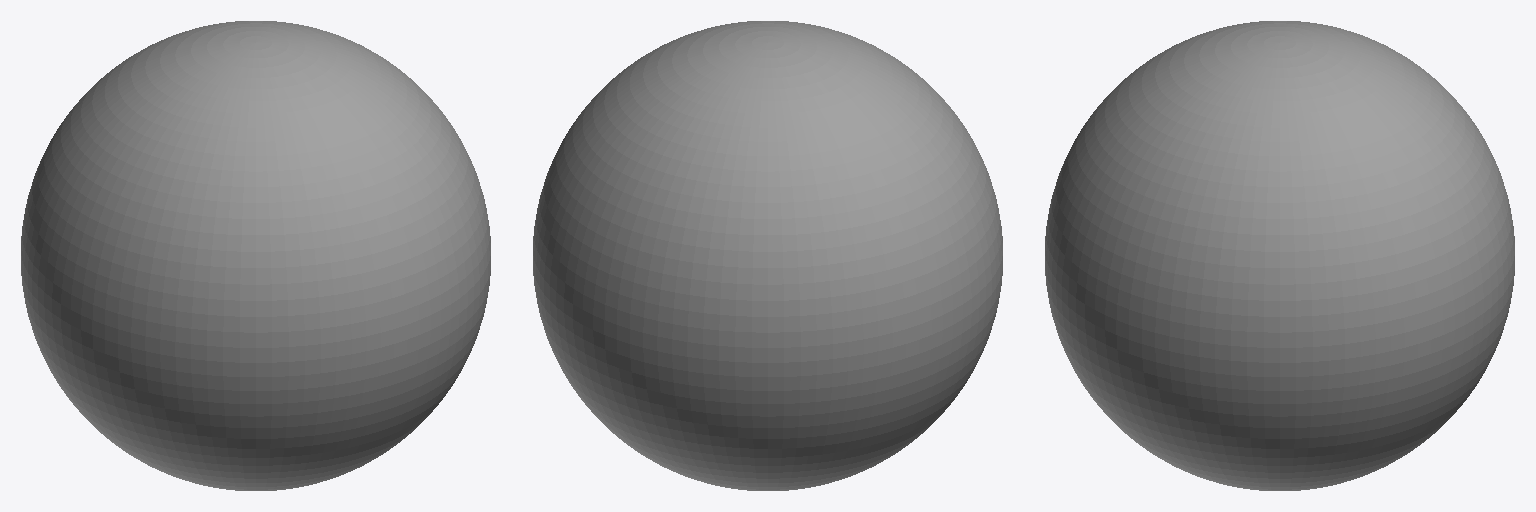
Rendered from earth.obj.
3 views of the same model, side by side, from view 1: azimuth 30°, elevation 25°; view 2: azimuth 150°, elevation 25°; view 3: azimuth 270°, elevation 25° (orthographic).
Bounding box in the file's own units: 9.99 × 10 × 9.99.